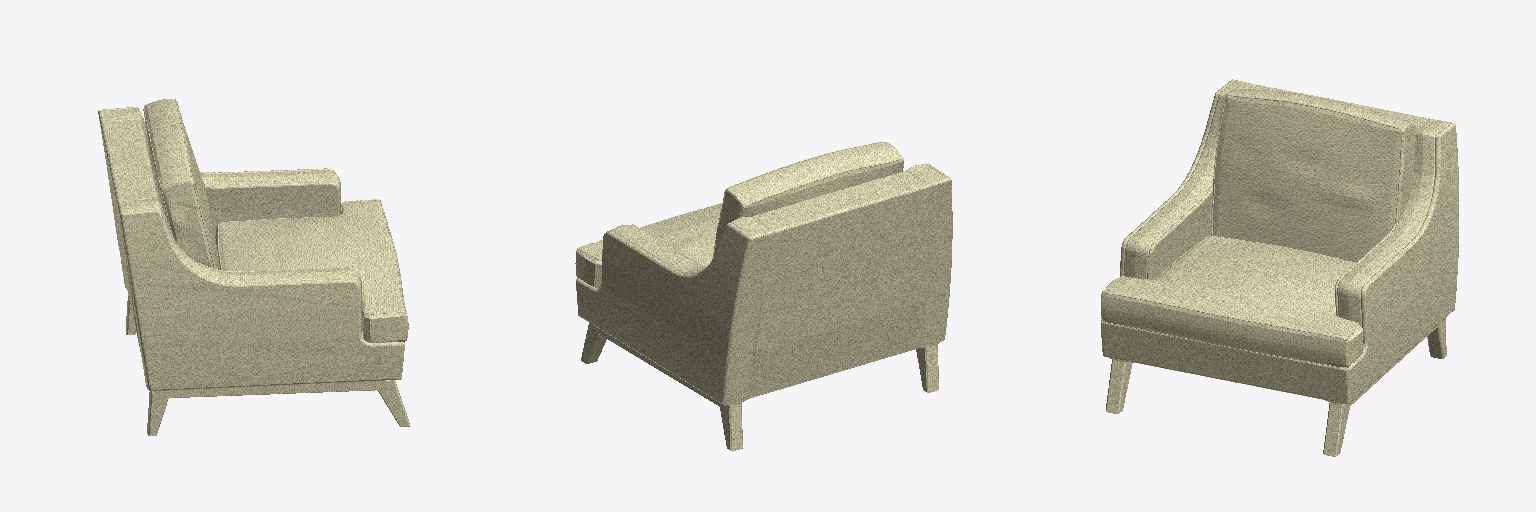
3 views of the same model, side by side, from view 1: azimuth 30°, elevation 25°; view 2: azimuth 150°, elevation 25°; view 3: azimuth 270°, elevation 25° (orthographic).
Parts seen in each view (by area): view 1: fal001b, 6, 4, 2; view 2: fal001b, 4, 6, 2; view 3: fal001b, 4, 6, 2.
Part boxes in pixels (left/top/right/bottom): fal001b: left=98, top=107, right=404, bottom=390; 6: left=215, top=199, right=408, bottom=342; 4: left=143, top=99, right=219, bottom=269; 2: left=126, top=296, right=409, bottom=435; fal001b: left=576, top=163, right=952, bottom=405; 4: left=713, top=142, right=903, bottom=257; 6: left=575, top=203, right=722, bottom=288; 2: left=581, top=323, right=938, bottom=451; fal001b: left=1101, top=79, right=1458, bottom=403; 4: left=1211, top=89, right=1416, bottom=262; 6: left=1101, top=235, right=1363, bottom=367; 2: left=1106, top=318, right=1446, bottom=456.
Bounding box in the file's own units: 43.55 × 32.3 × 42.41.
2 materials, 1 textured.